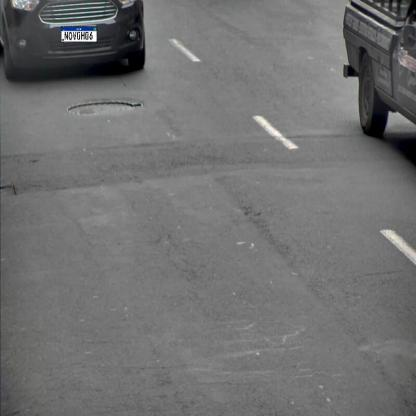PlacaM: (61, 26, 97, 42)
